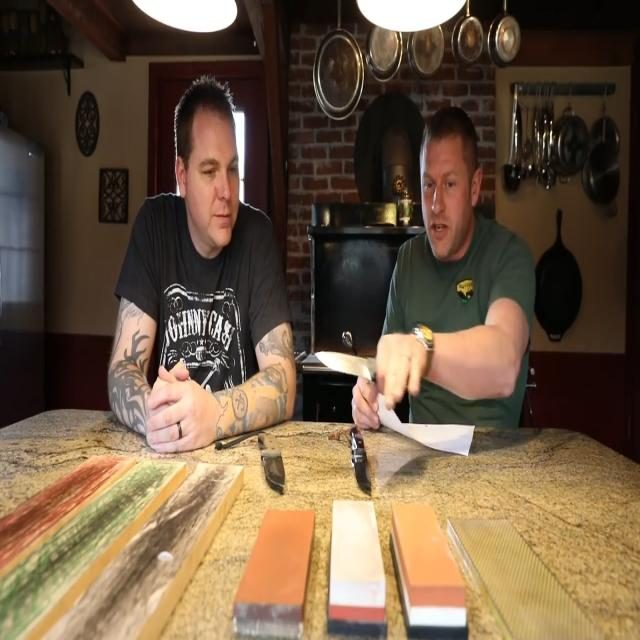knife: (346, 423, 378, 501), (314, 349, 380, 385), (256, 428, 288, 490)
